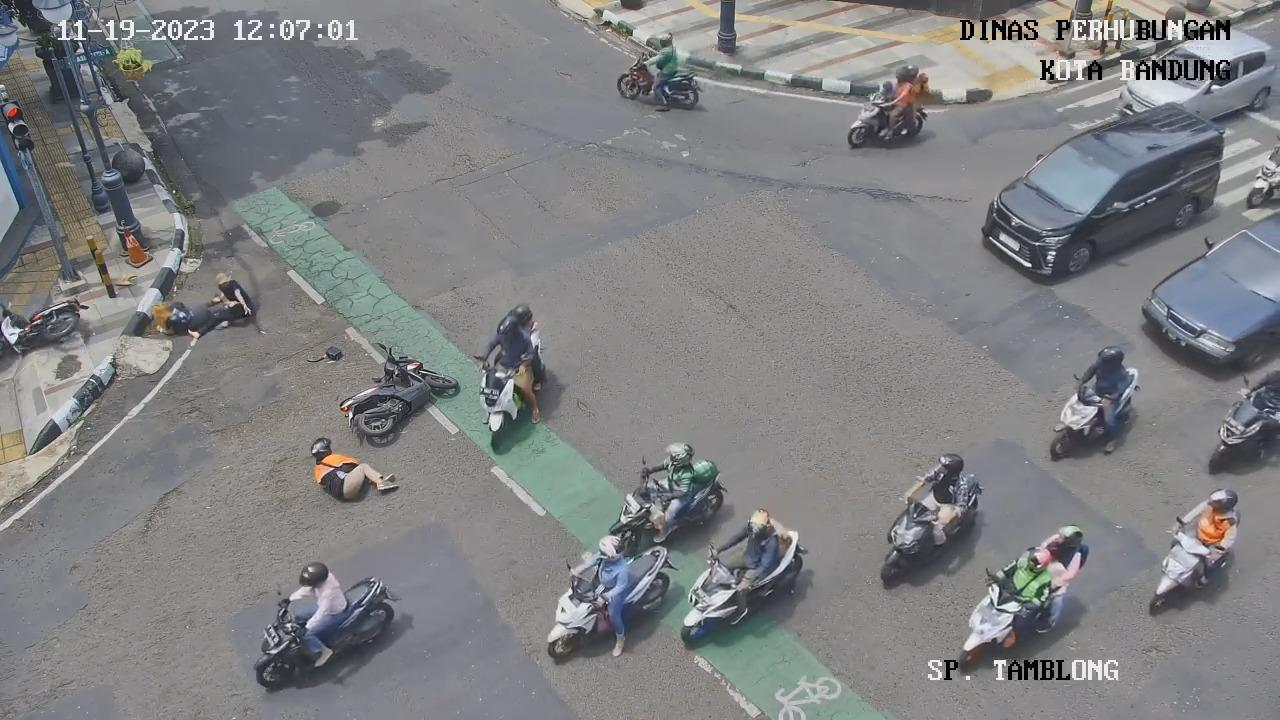accident: (299, 430, 404, 513), (209, 267, 268, 341), (149, 293, 224, 341)
